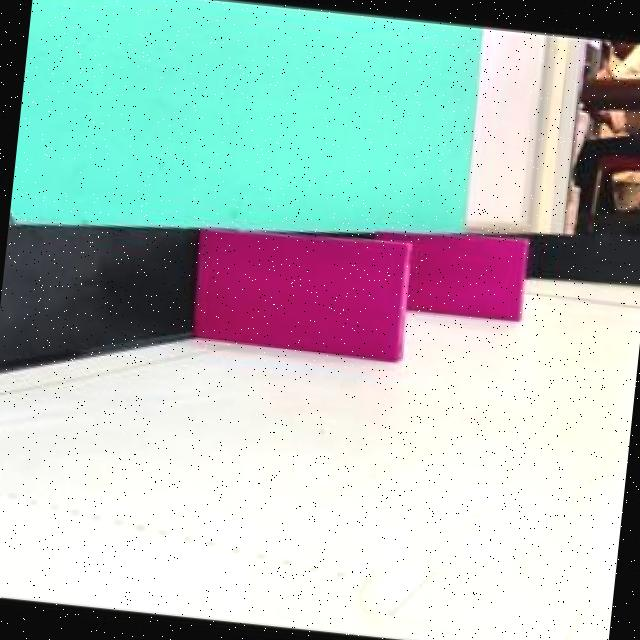xparking: (196, 226, 408, 356), (409, 232, 525, 322)
